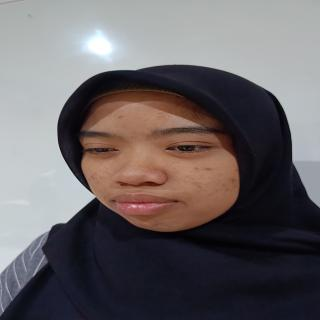Sedih: (60, 86, 250, 239)
